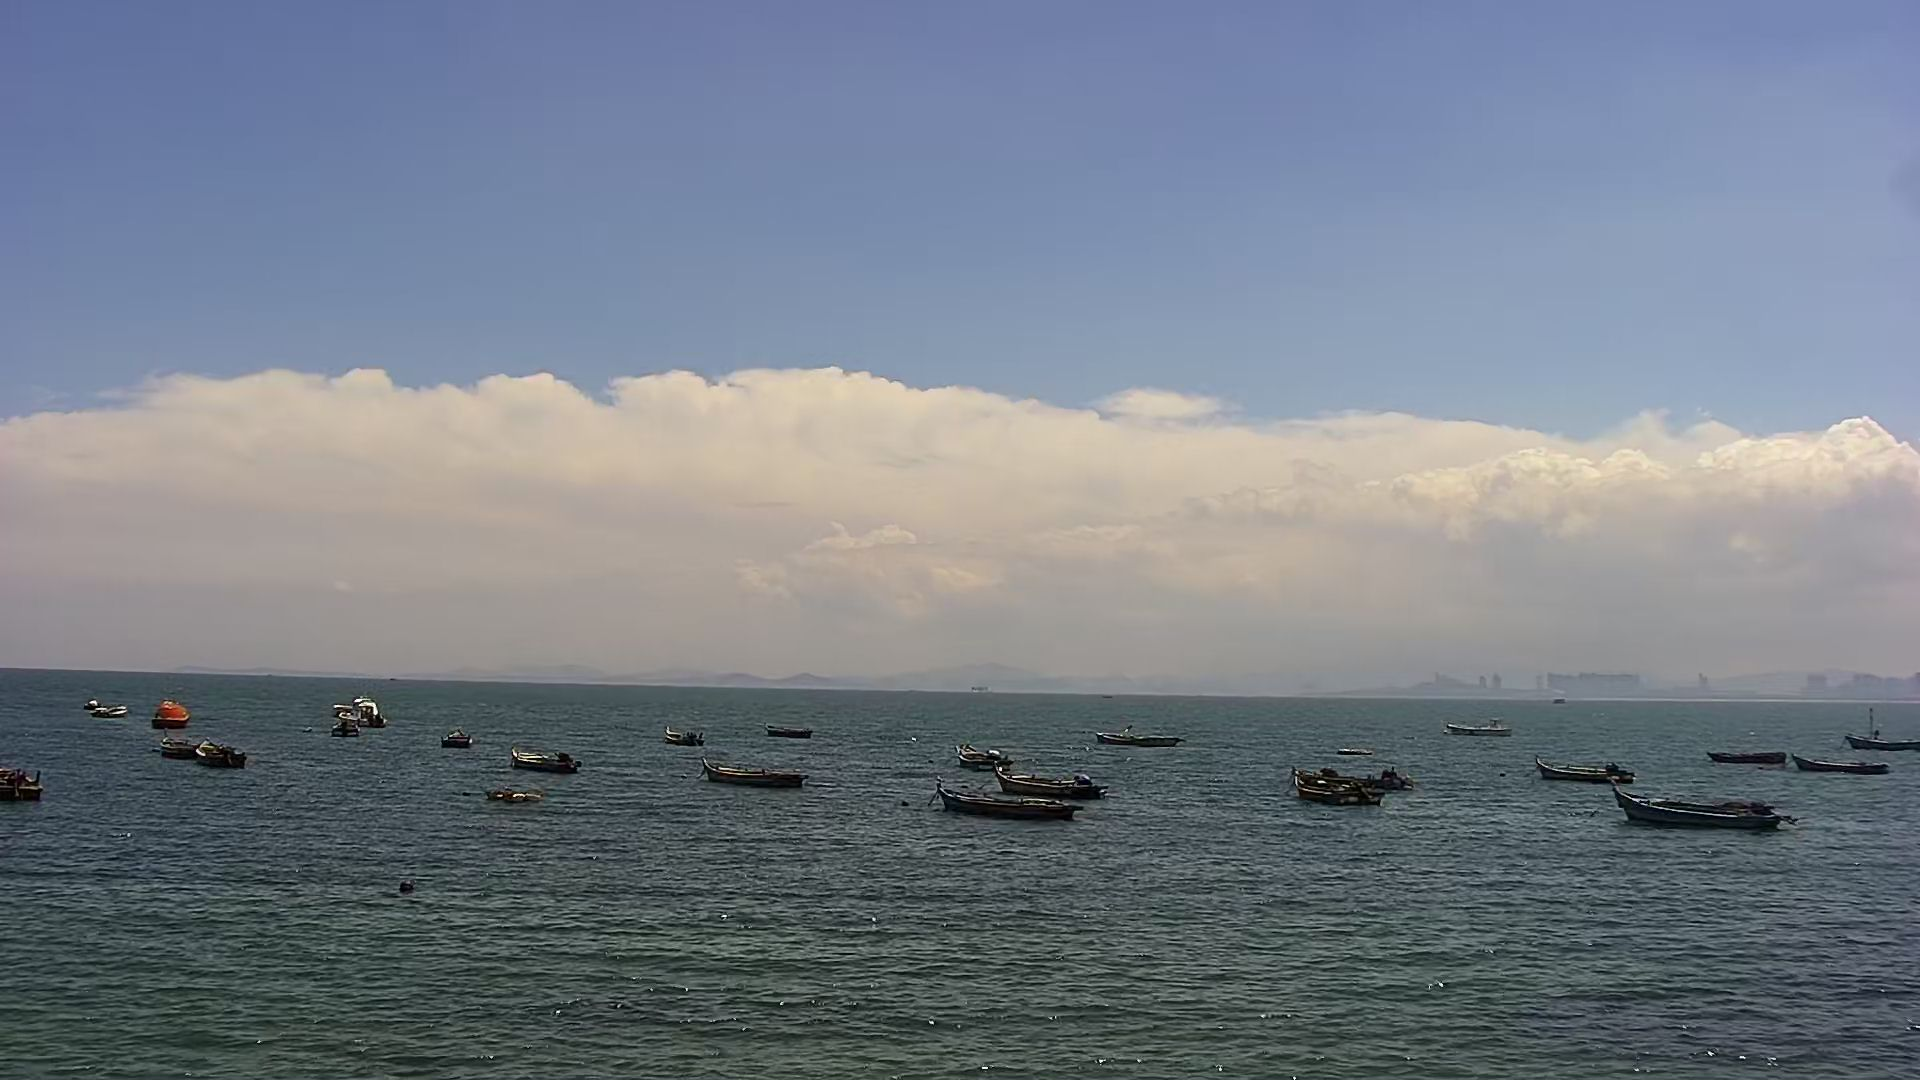ball: (392, 874, 425, 897)
boat: (1593, 775, 1804, 840), (935, 781, 1083, 827), (688, 749, 823, 796), (1083, 715, 1213, 762), (996, 764, 1126, 806), (1329, 753, 1429, 803), (1789, 744, 1905, 785), (1288, 771, 1383, 819), (1528, 746, 1639, 785), (1844, 705, 1920, 760), (502, 740, 593, 783), (462, 777, 563, 807), (1696, 737, 1792, 767), (1436, 715, 1520, 749), (1, 756, 55, 808), (426, 719, 485, 762), (149, 684, 204, 731), (760, 708, 829, 744), (198, 735, 258, 775), (324, 690, 360, 742), (651, 717, 715, 746), (353, 683, 392, 731), (149, 728, 204, 758), (1329, 733, 1389, 760)
